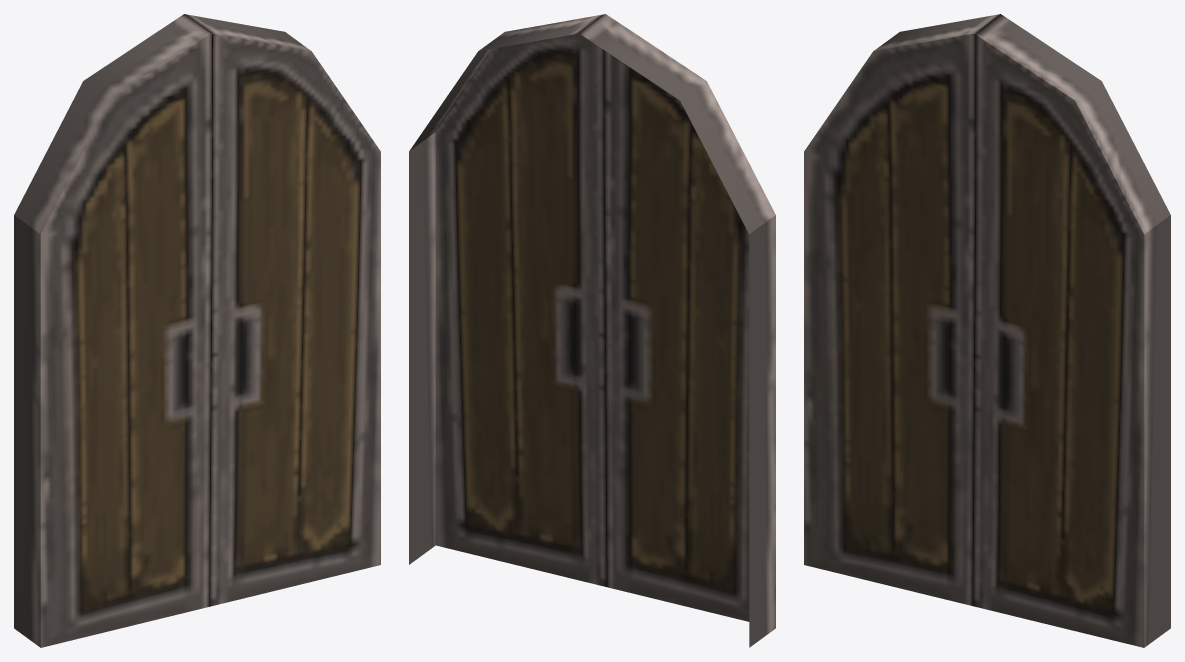
Rendered from Door.fbx.
3 views of the same model, side by side, from view 1: azimuth 30°, elevation 25°; view 2: azimuth 150°, elevation 25°; view 3: azimuth 330°, elevation 25° (orthographic).
Parts seen in each view (by area): view 1: door; view 2: door; view 3: door.
Part boxes in pixels (left/top/right/bottom): door: left=14, top=14, right=380, bottom=647; door: left=409, top=14, right=775, bottom=647; door: left=804, top=14, right=1170, bottom=647.
Bounding box in the file's own units: 998 × 1608 × 136.
1 material, 1 textured.
